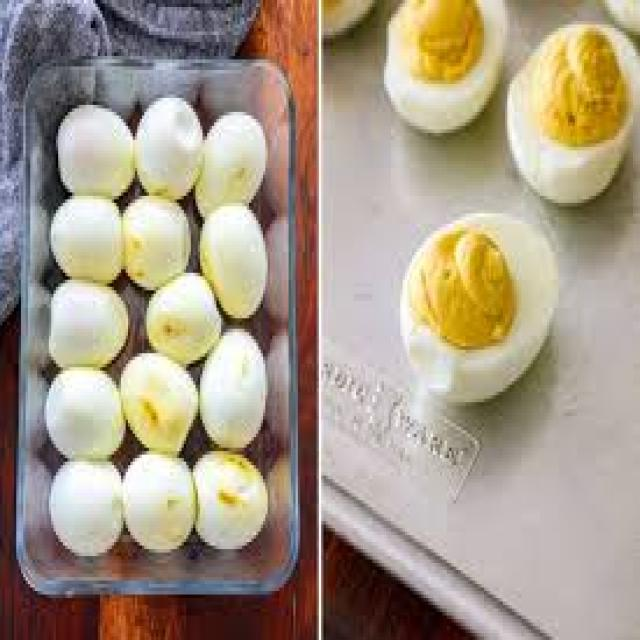boiled egg: (401, 214, 558, 402), (508, 25, 639, 206), (384, 0, 507, 132), (201, 329, 267, 451), (119, 354, 197, 454), (201, 203, 267, 321), (194, 452, 269, 552), (196, 112, 267, 216), (56, 105, 134, 199), (45, 368, 125, 458), (49, 459, 123, 556), (124, 452, 195, 552), (147, 273, 221, 367), (49, 280, 127, 367), (135, 98, 202, 199), (49, 196, 123, 283), (122, 196, 190, 290), (0, 0, 40, 48)
